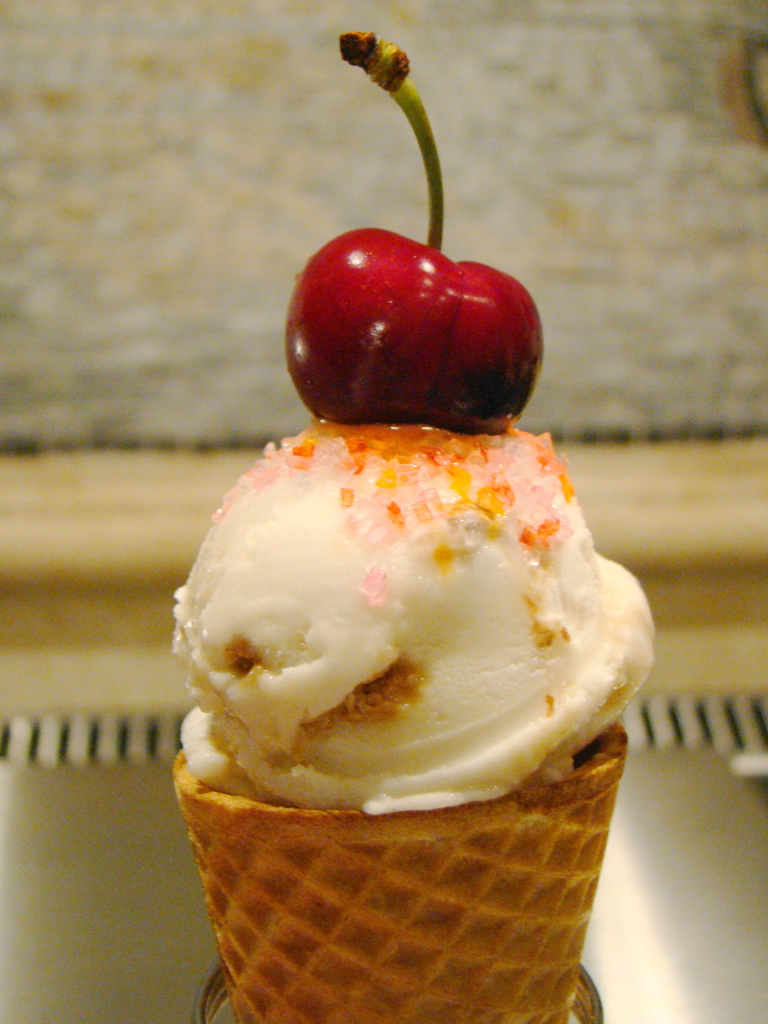Apple: (261, 200, 554, 488)
